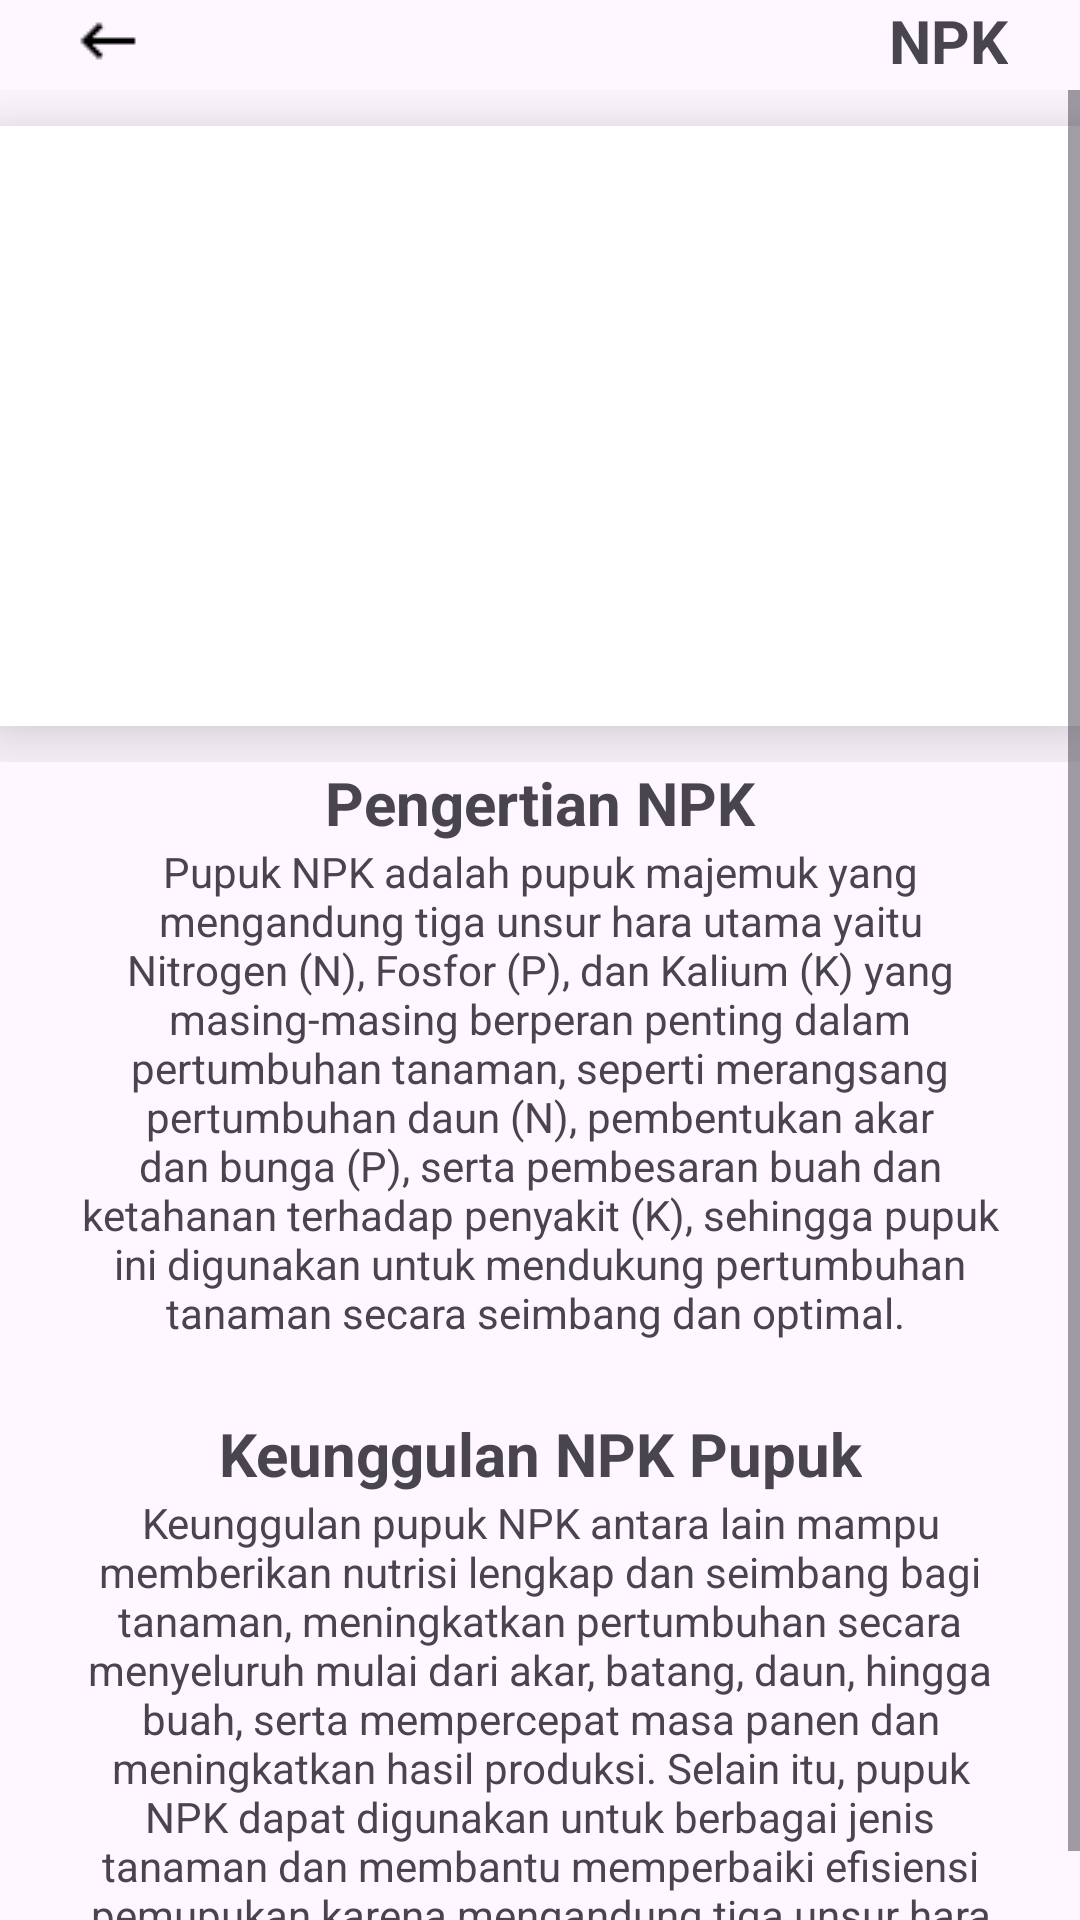

Icon bounding boxes for this 1080x1920 phone screenshot, format detection(x1, y1, x2, y2):
keyboard backspace: detection(80, 22, 136, 60)
